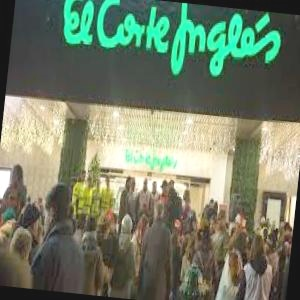corte_ingles: (117, 72, 238, 217), (251, 0, 300, 3)
